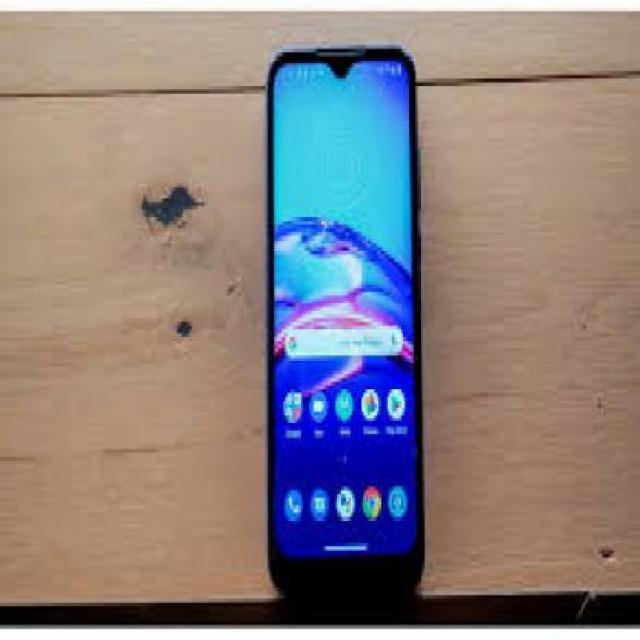phone: (268, 49, 426, 592)
